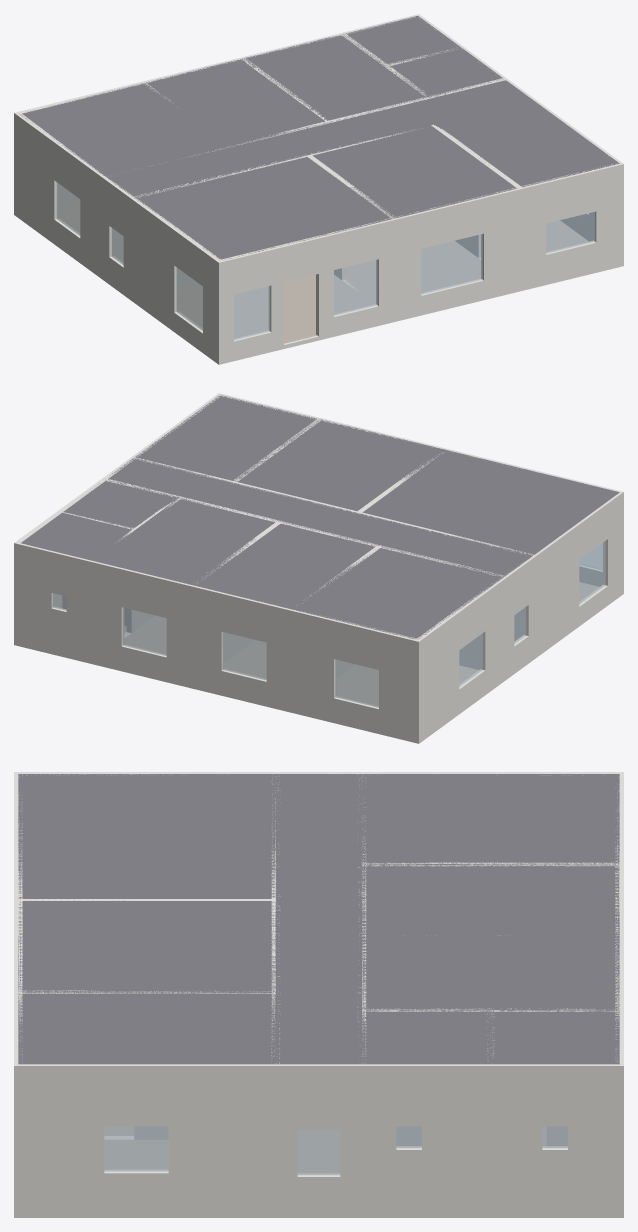
The model's file is villa.glb.
3 renders of one model, top to bottom at view 1: azimuth 30°, elevation 25°; view 2: azimuth 150°, elevation 25°; view 3: azimuth 270°, elevation 25°, orthographic. The views are drawn at different scales.
Parts seen in each view (by area): view 1: f0_wall_h_0_0, f0_wall_v_0_0, f0_roof_lounge, f0_roof_hall, f0_roof_bed1, f0_roof_dining, f0_roof_bed2, f0_roof_bed3, f0_roof_kitchen, f0_floor_lounge, f0_roof_bath2, f0_floor_dining (+15 smaller); view 2: f0_wall_h_14_0, f0_wall_v_0_0, f0_roof_lounge, f0_roof_hall, f0_roof_bed1, f0_roof_dining, f0_roof_kitchen, f0_roof_bed3, f0_roof_bed2, f0_roof_bath2, f0_roof_bath1, f0_wall_h_8_0 (+13 smaller); view 3: f0_wall_v_16_0, f0_roof_lounge, f0_roof_hall, f0_roof_bed1, f0_roof_dining, f0_roof_bed2, f0_roof_kitchen, f0_roof_bed3, f0_roof_bath2, f0_roof_bath1, f0_wall_h_0_0, f0_wall_h_14_0 (+11 smaller).
Part boxes in pixels (left/top/right/bottom): f0_wall_h_0_0: left=216, top=162, right=623, bottom=364; f0_wall_v_0_0: left=15, top=113, right=220, bottom=362; f0_roof_lounge: left=134, top=157, right=394, bottom=259; f0_roof_hall: left=105, top=80, right=532, bottom=197; f0_roof_bed1: left=20, top=83, right=228, bottom=176; f0_roof_dining: left=312, top=125, right=516, bottom=218; f0_roof_bed2: left=144, top=58, right=327, bottom=145; f0_roof_bed3: left=244, top=34, right=429, bottom=120; f0_roof_kitchen: left=434, top=100, right=619, bottom=187; f0_floor_lounge: left=179, top=274, right=375, bottom=343; f0_roof_bath2: left=343, top=16, right=460, bottom=65; f0_floor_dining: left=345, top=241, right=480, bottom=302; f0_wall_h_14_0: left=14, top=542, right=421, bottom=743; f0_wall_v_0_0: left=417, top=493, right=622, bottom=741; f0_roof_lounge: left=362, top=449, right=619, bottom=555; f0_roof_hall: left=108, top=458, right=532, bottom=576; f0_roof_bed1: left=293, top=547, right=503, bottom=639; f0_roof_dining: left=235, top=419, right=444, bottom=511; f0_roof_kitchen: left=134, top=395, right=318, bottom=480; f0_roof_bed3: left=93, top=497, right=274, bottom=585; f0_roof_bed2: left=193, top=523, right=375, bottom=609; f0_roof_bath2: left=21, top=511, right=132, bottom=560; f0_roof_bath1: left=64, top=480, right=178, bottom=528; f0_wall_h_8_0: left=101, top=478, right=508, bottom=679; f0_wall_v_16_0: left=18, top=1064, right=619, bottom=1217; f0_roof_lounge: left=18, top=774, right=275, bottom=900; f0_roof_hall: left=276, top=774, right=361, bottom=1064; f0_roof_bed1: left=362, top=774, right=619, bottom=864; f0_roof_dining: left=18, top=901, right=275, bottom=991; f0_roof_bed2: left=362, top=864, right=619, bottom=937; f0_roof_kitchen: left=18, top=991, right=275, bottom=1064; f0_roof_bed3: left=362, top=937, right=619, bottom=1009; f0_roof_bath2: left=490, top=1010, right=619, bottom=1064; f0_roof_bath1: left=362, top=1010, right=490, bottom=1064; f0_wall_h_0_0: left=14, top=772, right=22, bottom=1217; f0_wall_h_14_0: left=615, top=772, right=623, bottom=1217.
Size of the model in its own units: 16.2 by 3.9 by 14.2.
